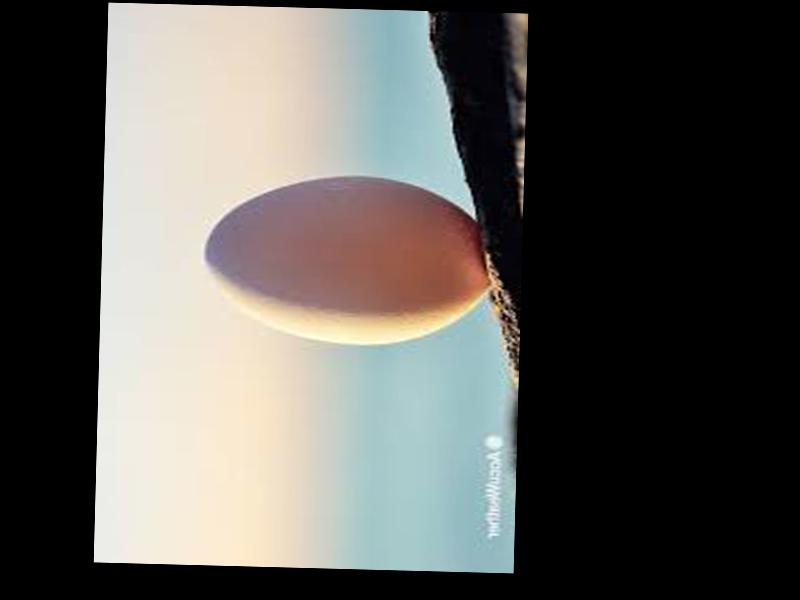Eggs: (199, 171, 489, 348)
